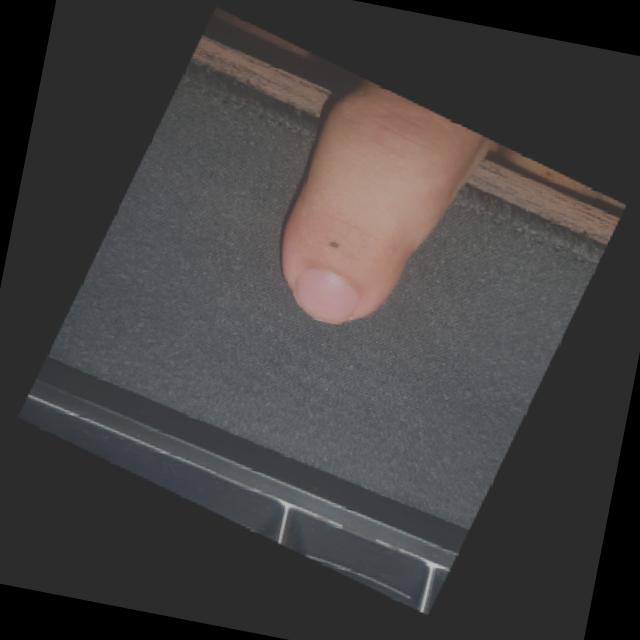Nail: (295, 267, 360, 325)
